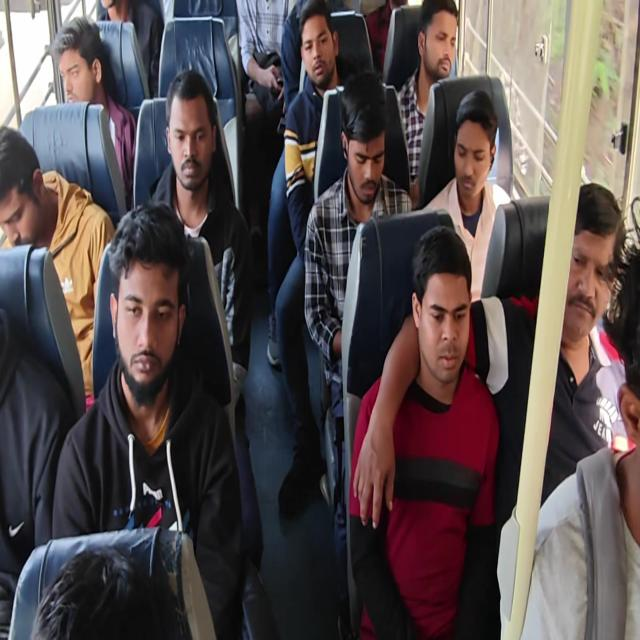person: (98, 185, 191, 420), (31, 548, 201, 640), (554, 172, 620, 351), (602, 214, 640, 485), (408, 228, 472, 382), (166, 58, 215, 198), (1, 111, 46, 262), (339, 72, 390, 202), (45, 17, 110, 105), (455, 80, 496, 203), (299, 5, 344, 95), (420, 0, 459, 79), (98, 0, 134, 20)
